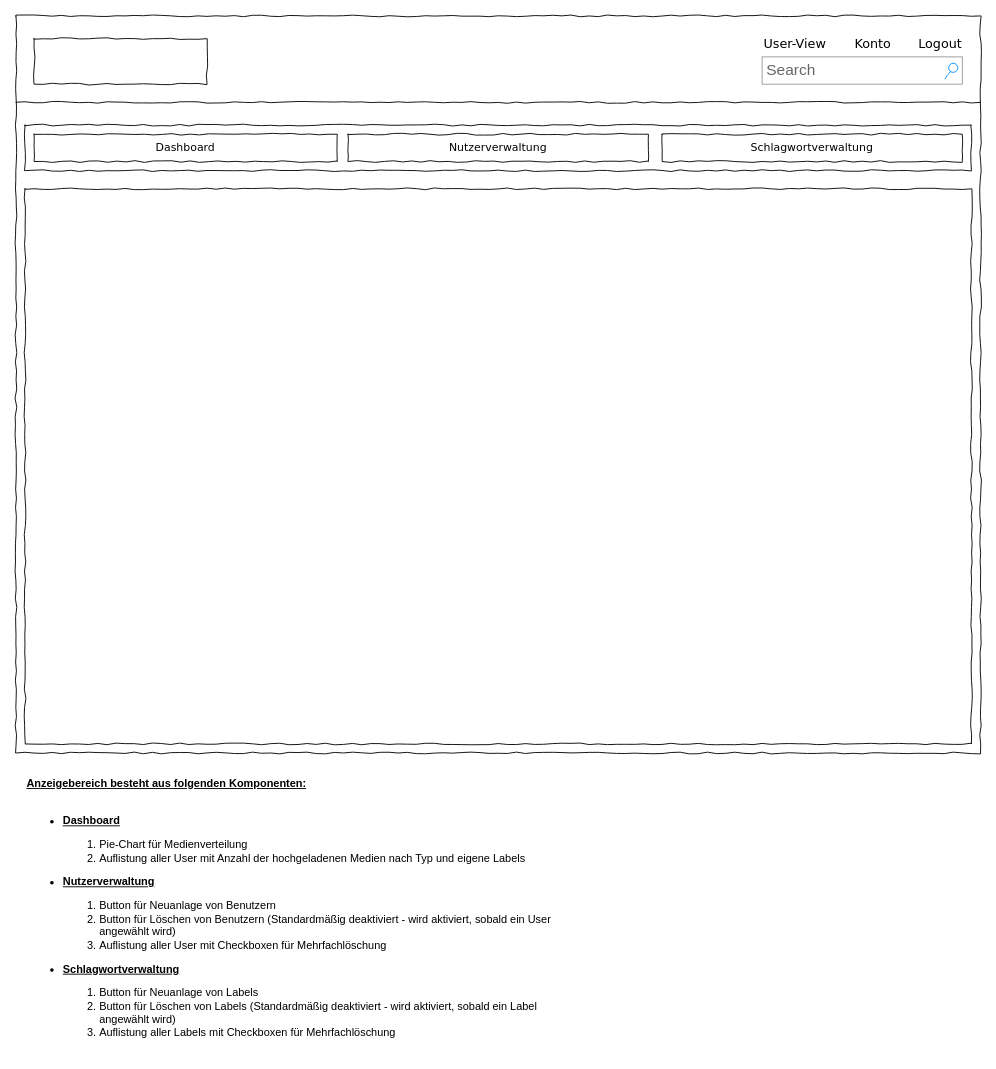
Image size: 996x1069. Some labels were removed from this diagram. Here are the shapes that lost their labels. From the top down, the centre of each, then its label:
(120,61): LOGO
(497,466): Anzeigebereich
